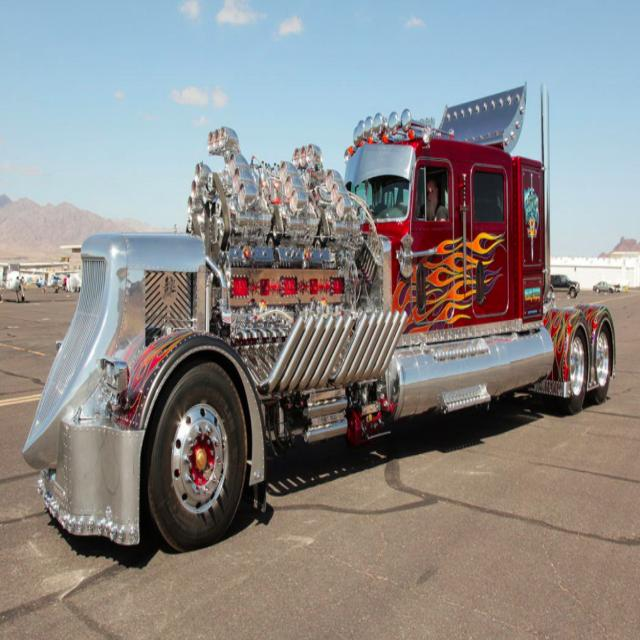truck: (30, 13, 628, 590)
